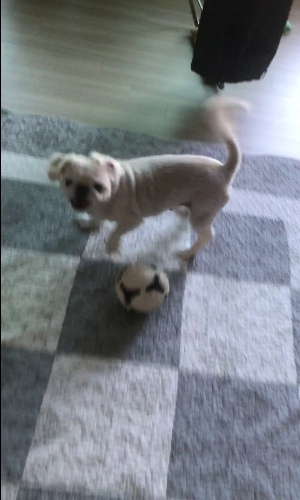ddubi: (44, 93, 254, 263)
